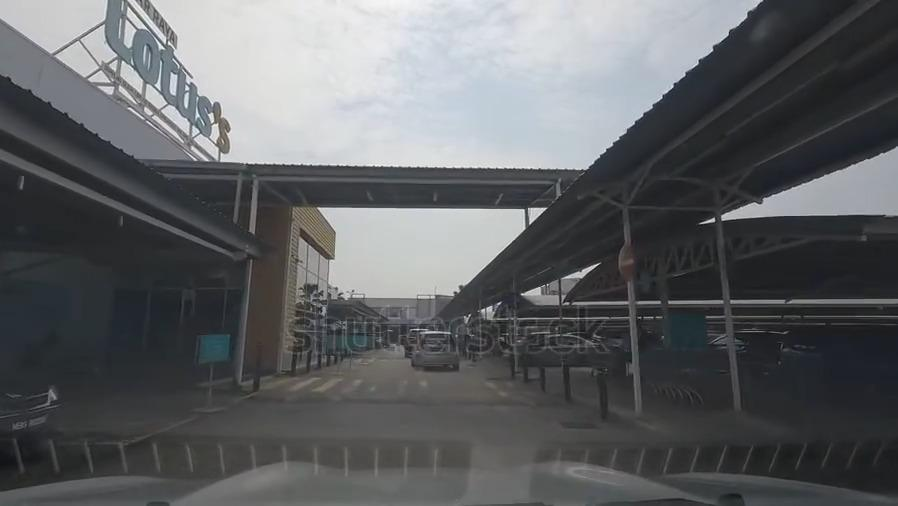car: (781, 322, 898, 391), (1, 362, 63, 451), (501, 331, 602, 365), (713, 327, 780, 367), (414, 329, 458, 371), (405, 326, 425, 354)
manhole: (256, 368, 546, 407), (557, 415, 601, 438)
